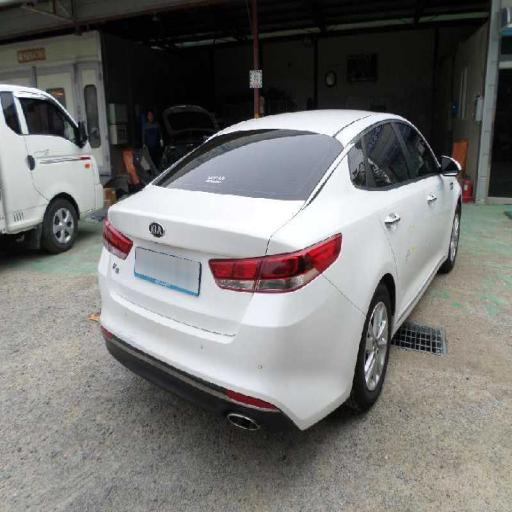scratch: (354, 121, 455, 200)
